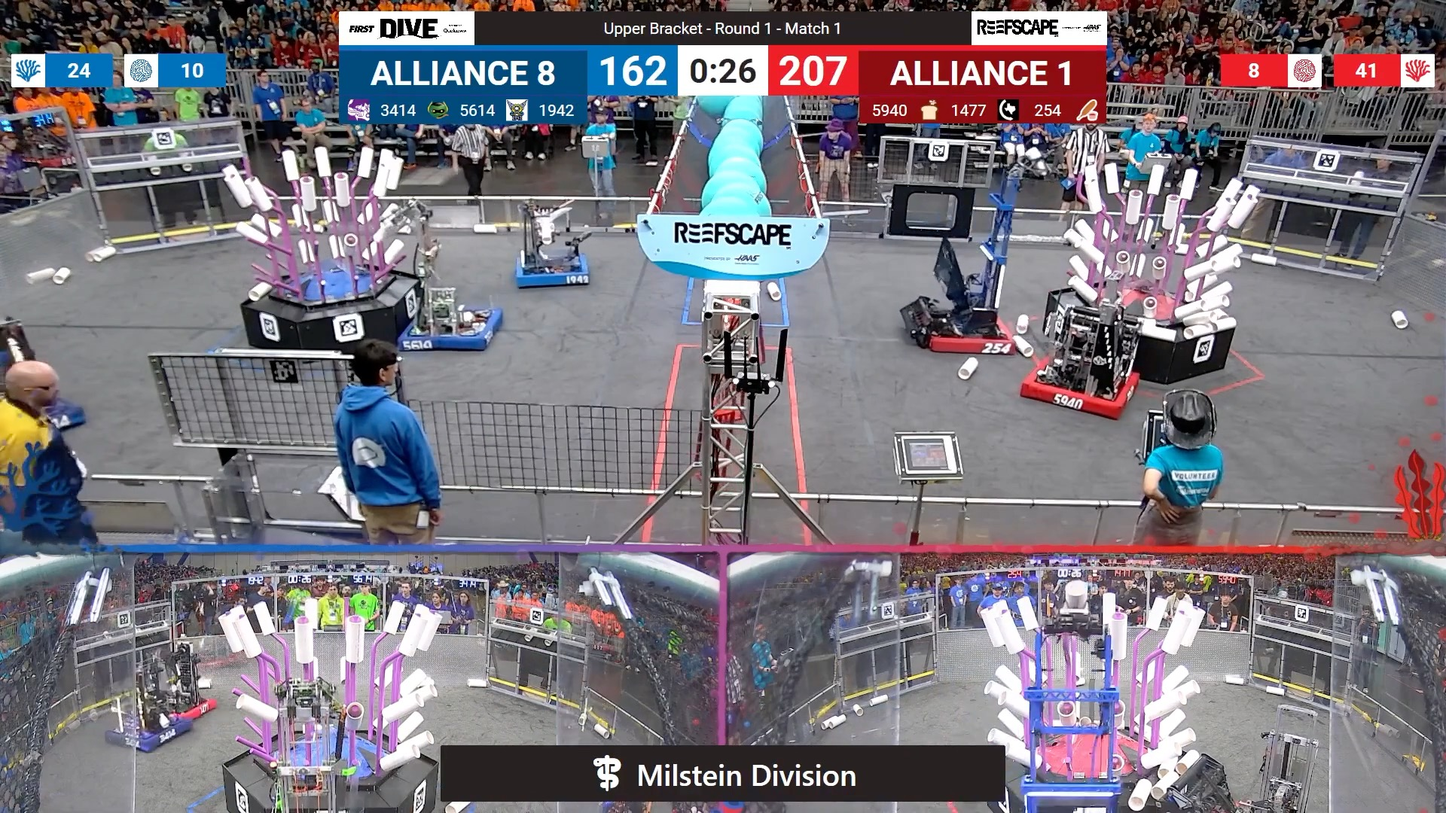bumpers: (1016, 355, 1153, 423), (905, 305, 1028, 364), (392, 300, 503, 361), (0, 392, 93, 452), (102, 715, 200, 756), (511, 249, 599, 294), (148, 693, 222, 724)
